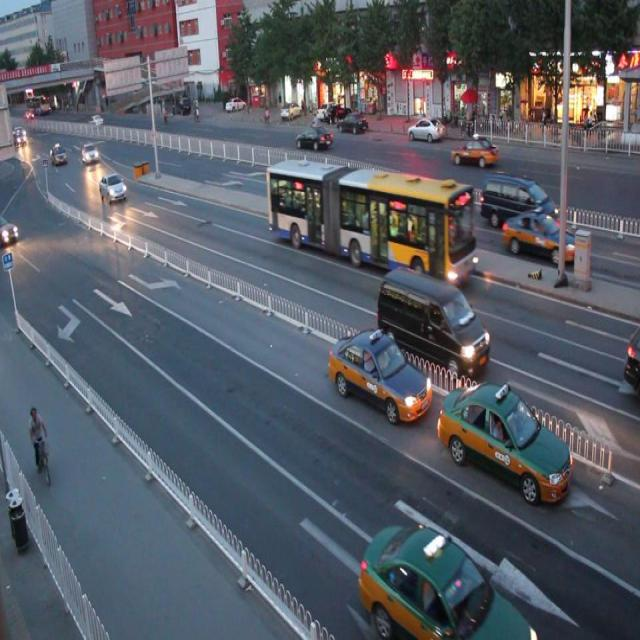car: (358, 521, 535, 640), (438, 378, 571, 501), (327, 328, 432, 425), (501, 210, 577, 264), (451, 134, 498, 167), (295, 125, 333, 150)
truck: (378, 262, 488, 372), (480, 172, 555, 223)
van: (266, 155, 473, 286)
